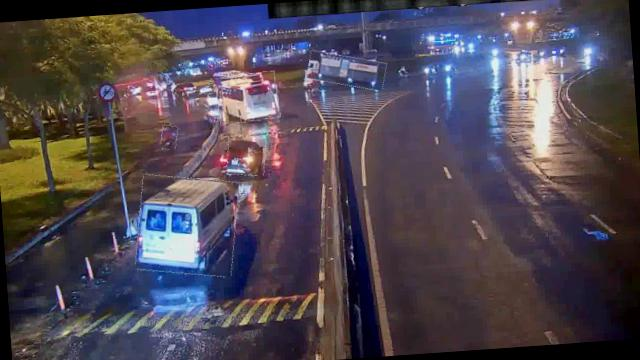Bike: (159, 124, 178, 149)
Bus: (132, 171, 242, 280), (215, 71, 279, 123)
Car: (225, 134, 267, 176)
Truck: (306, 49, 386, 91)
